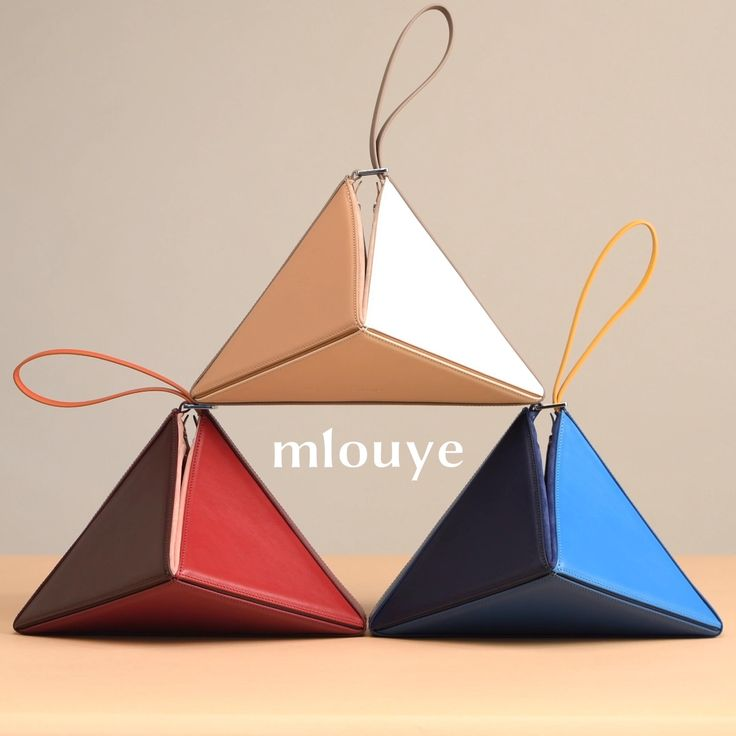cuero: (15, 6, 725, 644)
